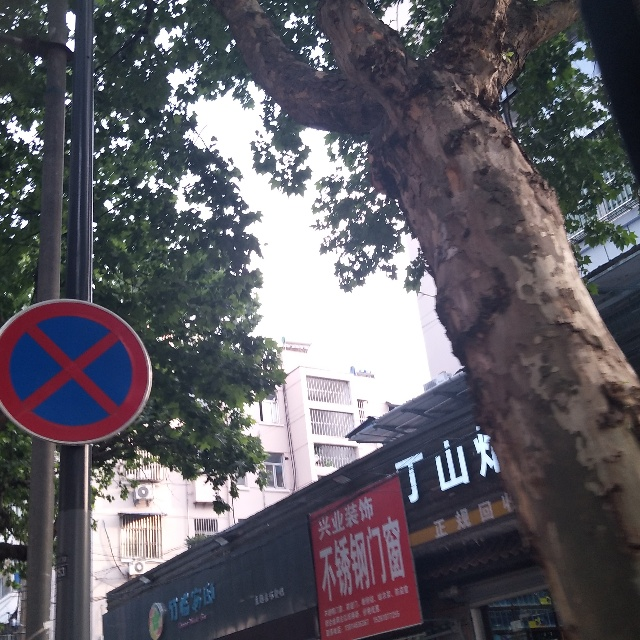stop: (14, 318, 136, 436)
